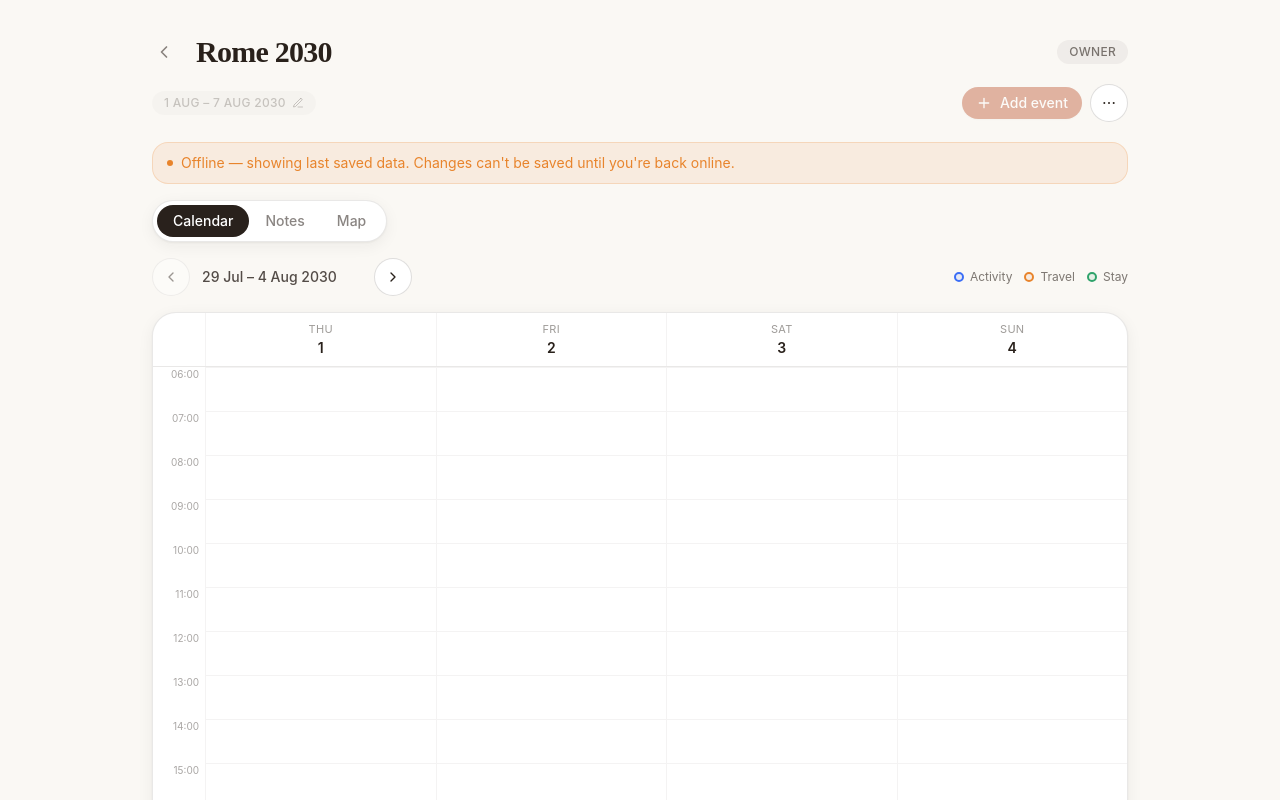
Test: TripView — refreshing for the latest changes › disables the Refresh item while offline
The image size is (1280, 800).
Click the button named "More trip options": (1109,103) [1090,84,1128,122]
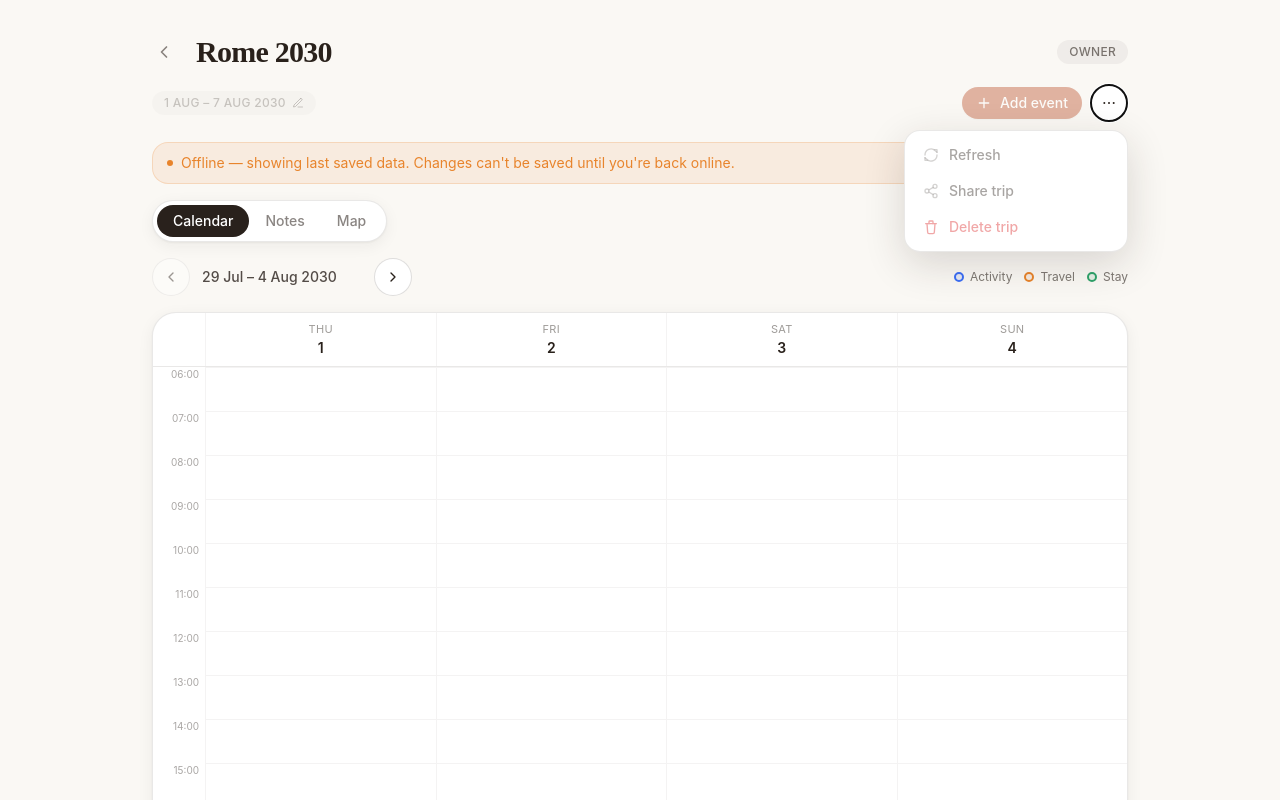
Check: the menu item "Refresh" is disabled, box [911,137,1121,173]
